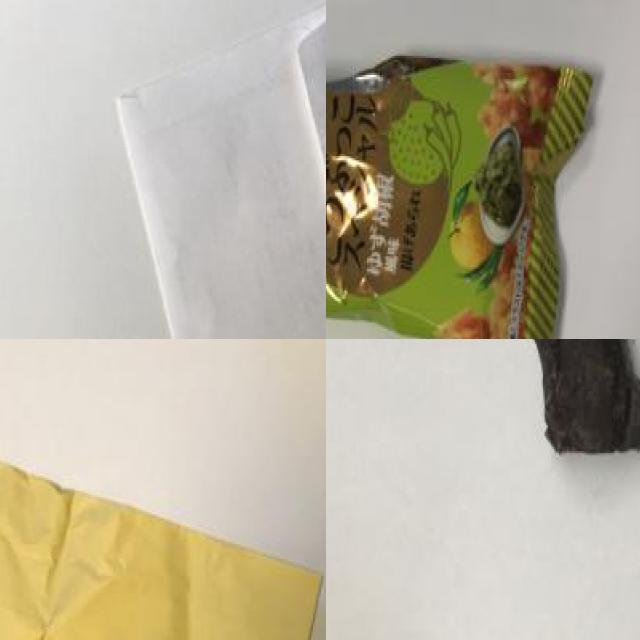compost: (523, 339, 640, 473)
paper: (125, 0, 326, 339), (0, 443, 326, 640)
trash: (326, 33, 608, 339)
